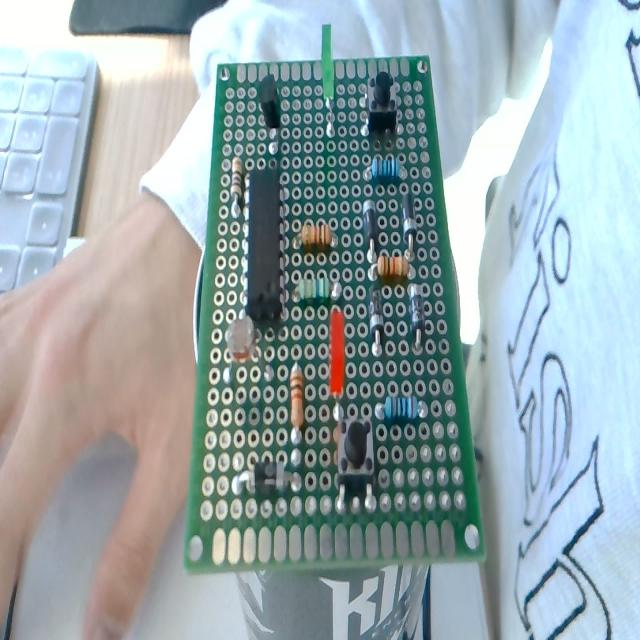IC: (246, 155, 290, 326)
cds: (222, 315, 276, 390)
diode: (230, 461, 308, 502), (362, 281, 389, 358), (404, 280, 432, 354), (396, 188, 425, 259), (359, 188, 380, 260)
led: (324, 307, 352, 427), (316, 18, 342, 141)
resistor: (368, 380, 434, 425), (290, 220, 345, 258), (284, 359, 307, 443), (362, 251, 419, 283), (358, 157, 414, 187), (291, 275, 344, 306), (228, 145, 248, 222)
switch: (326, 418, 385, 510), (352, 64, 414, 146)
transistor: (244, 66, 298, 148)
